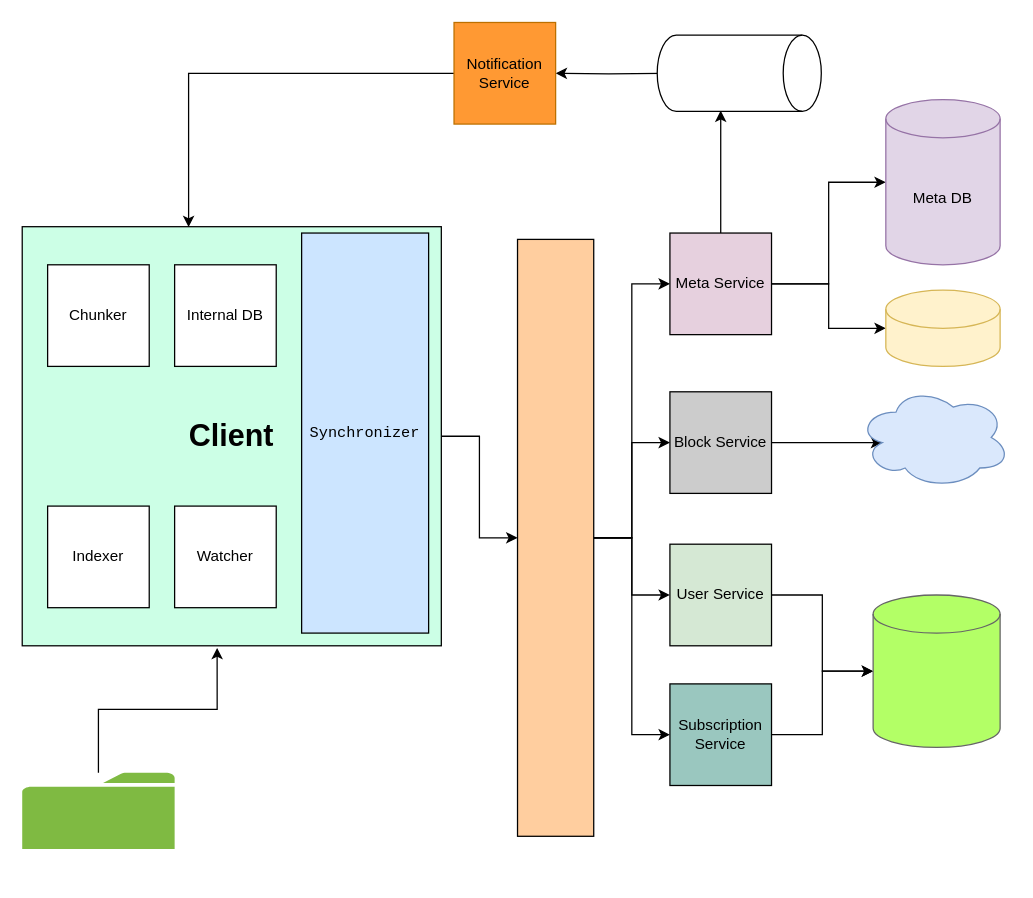
This 1033x898 diagram has some shape labels left out. The centre of each missing label's shape, as x and y in pixels:
AWS S3: [933,436]
Cache: [942,327]
Files/Folders: [98,810]
LB: [555,537]
Notifications Topic: [738,72]
Users/SubScriptions DB: [936,670]
